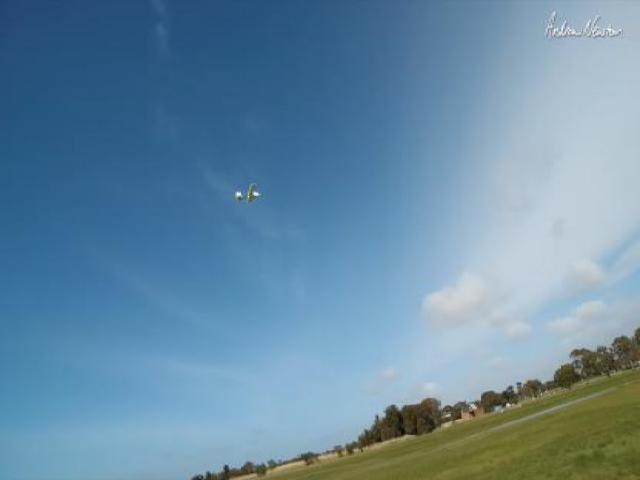uav: (230, 178, 264, 208)
